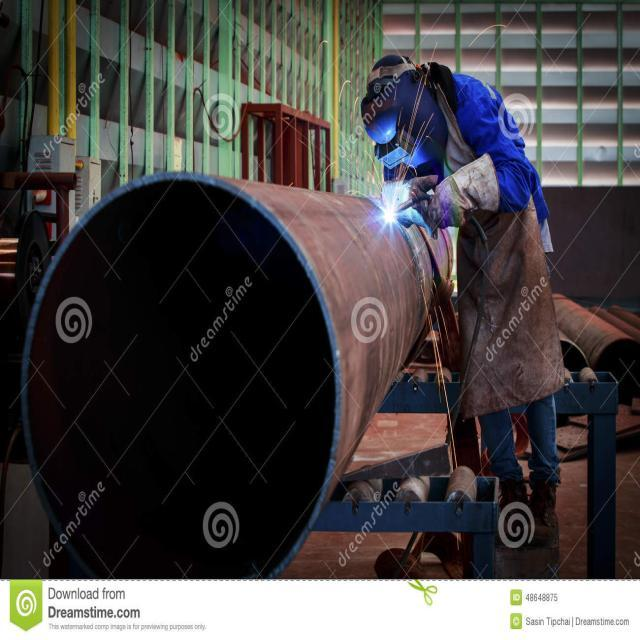with_helmet: (358, 49, 448, 181)
